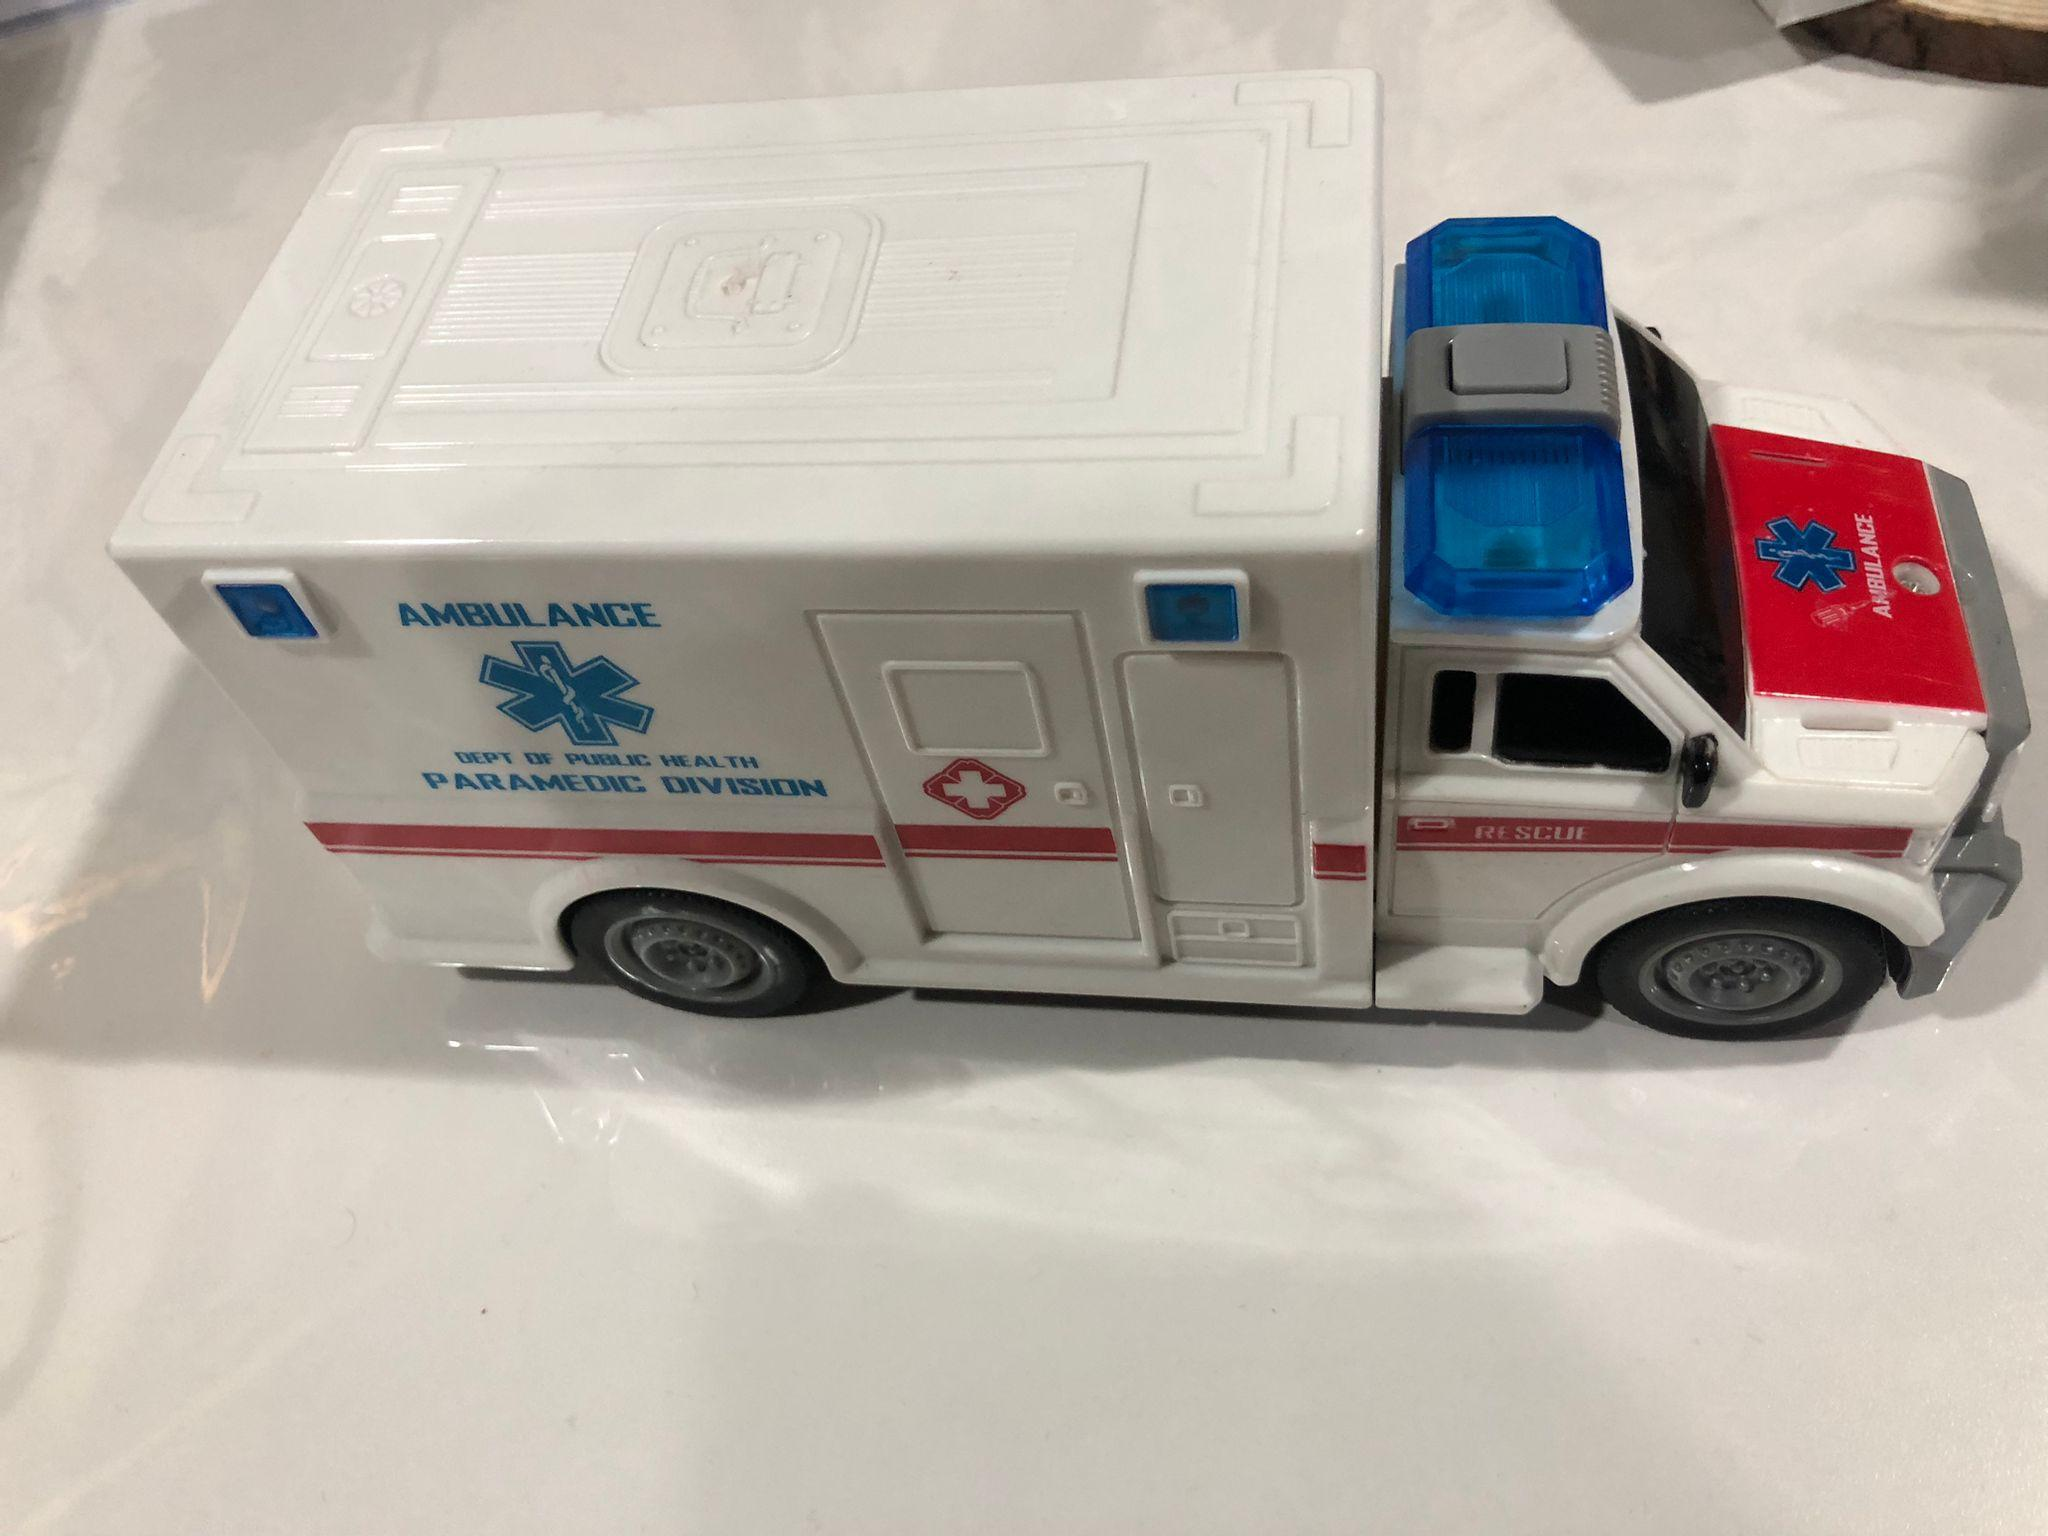ambulance_off: (103, 63, 2035, 1054)
